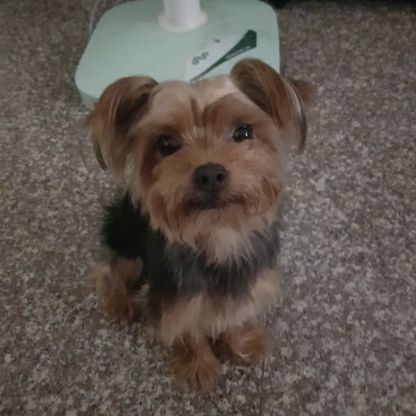yorkshire: (92, 55, 314, 385)
